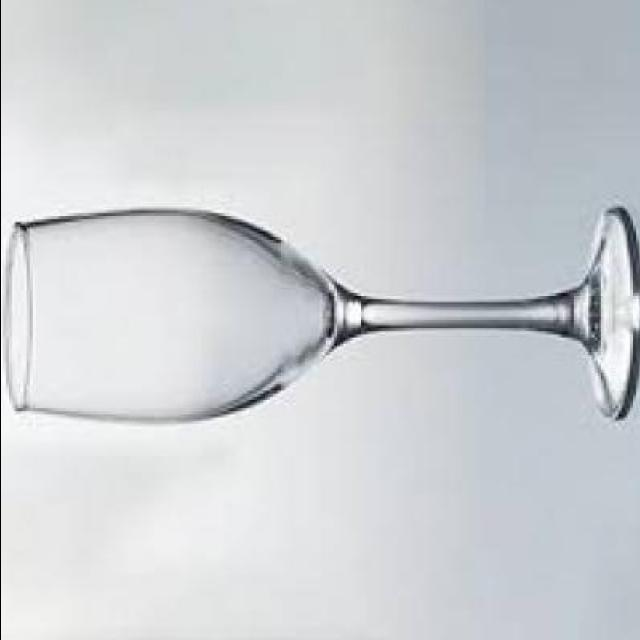kaca: (0, 201, 638, 420)
